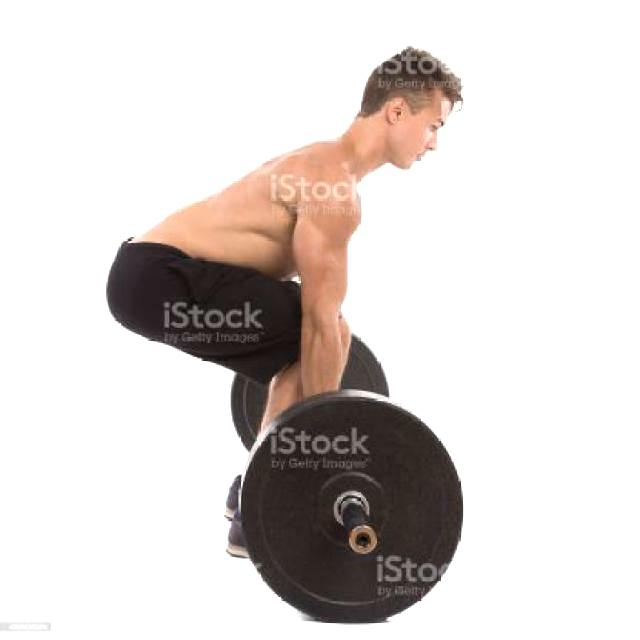barbell: (238, 389, 482, 630)
